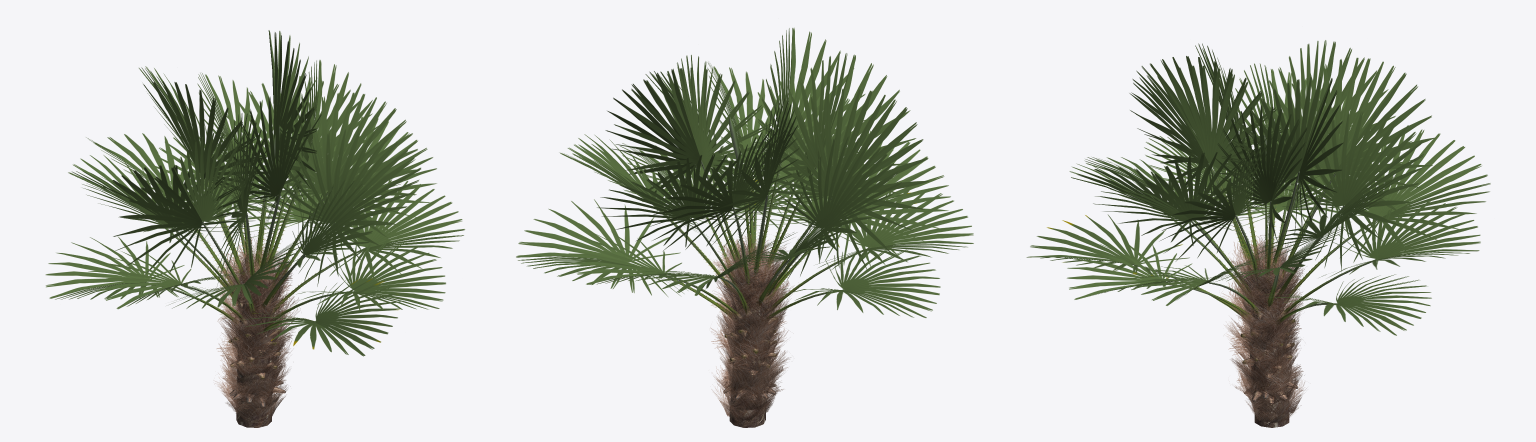
Rendered from palmier-nain-1.glb.
3 views of the same model, side by side, from view 1: azimuth 30°, elevation 25°; view 2: azimuth 150°, elevation 25°; view 3: azimuth 270°, elevation 25° (orthographic).
Visible parts, largest first — view 1: Chamaerops_humilis_HD; view 2: Chamaerops_humilis_HD; view 3: Chamaerops_humilis_HD.
Part boxes in pixels (bbox=[...]): Chamaerops_humilis_HD: bbox=[45, 30, 464, 427]; Chamaerops_humilis_HD: bbox=[516, 28, 973, 427]; Chamaerops_humilis_HD: bbox=[1026, 40, 1490, 427].
Size of the model in its own units: 0.8561 by 0.7492 by 0.8747.
10 materials, 10 textured.
